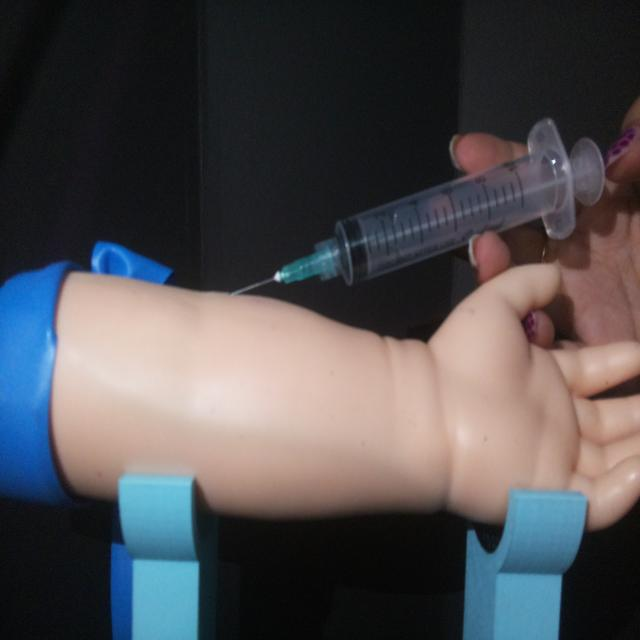24deg: (225, 112, 608, 302)
